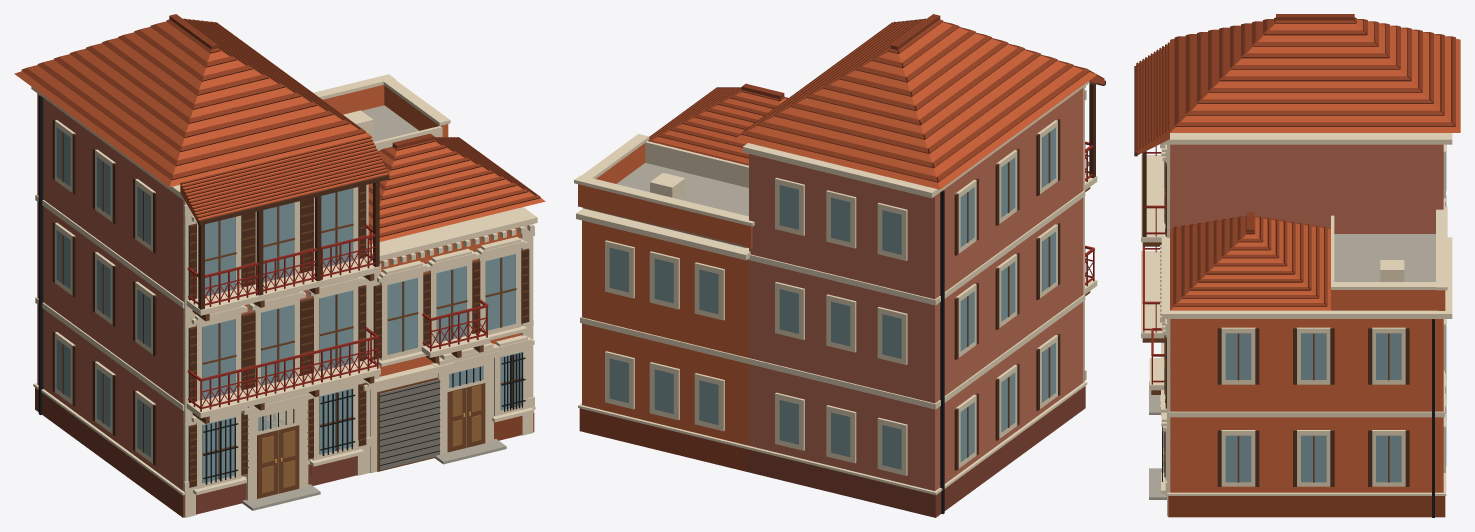
Rendered from casa-balcones-rojos.glb.
3 views of the same model, side by side, from view 1: azimuth 30°, elevation 25°; view 2: azimuth 150°, elevation 25°; view 3: azimuth 270°, elevation 25° (orthographic). The views are drawn at different scales.
Visible parts, largest first — view 1: CasaBR_Crema, CasaBR_Teja, CasaBR_Vidrio, CasaBR_TejaOscura, CasaBR_MuroSalmon, CasaBR_Postigo, CasaBR_Madera, CasaBR_BarandaRoja, CasaBR_Hierro, CasaBR_ZocaloSalmon, CasaBR_PersianaLocal, CasaBR_MuroNaranja (+2 smaller); view 2: CasaBR_MuroSalmon, CasaBR_Crema, CasaBR_MuroNaranja, CasaBR_Teja, CasaBR_TejaOscura, CasaBR_Vidrio, CasaBR_ZocaloSalmon, CasaBR_Postigo, CasaBR_ZocaloNaranja, CasaBR_Piedra, CasaBR_Hierro, CasaBR_Madera; view 3: CasaBR_MuroNaranja, CasaBR_Teja, CasaBR_Crema, CasaBR_TejaOscura, CasaBR_MuroSalmon, CasaBR_Vidrio, CasaBR_ZocaloNaranja, CasaBR_Piedra, CasaBR_Postigo, CasaBR_Madera, CasaBR_BarandaRoja, CasaBR_Hierro.
Boxes of the visible parts, x1,y1,x2,y2 form: CasaBR_Crema: (31, 74, 537, 517); CasaBR_Teja: (14, 22, 545, 244); CasaBR_Vidrio: (56, 127, 523, 482); CasaBR_TejaOscura: (21, 14, 540, 239); CasaBR_MuroSalmon: (37, 93, 311, 490); CasaBR_Postigo: (52, 119, 529, 487); CasaBR_Madera: (62, 132, 528, 498); CasaBR_BarandaRoja: (187, 224, 488, 411); CasaBR_Hierro: (38, 95, 525, 484); CasaBR_ZocaloSalmon: (35, 388, 357, 517); CasaBR_PersianaLocal: (379, 379, 439, 470); CasaBR_MuroNaranja: (323, 85, 520, 376); CasaBR_MuroSalmon: (749, 88, 1083, 490); CasaBR_Crema: (574, 81, 1097, 494); CasaBR_MuroNaranja: (578, 143, 752, 445); CasaBR_Teja: (652, 22, 1104, 189); CasaBR_TejaOscura: (648, 14, 1104, 182); CasaBR_Vidrio: (609, 127, 1055, 469); CasaBR_ZocaloSalmon: (746, 386, 1085, 517); CasaBR_Postigo: (954, 80, 1105, 470); CasaBR_ZocaloNaranja: (579, 408, 749, 471); CasaBR_Piedra: (583, 163, 748, 248); CasaBR_Hierro: (940, 190, 944, 513); CasaBR_Madera: (967, 132, 1090, 457); CasaBR_MuroNaranja: (1170, 290, 1445, 492); CasaBR_Teja: (1136, 19, 1460, 310); CasaBR_Crema: (1141, 133, 1452, 516); CasaBR_TejaOscura: (1136, 14, 1455, 306); CasaBR_MuroSalmon: (1170, 144, 1443, 233); CasaBR_Vidrio: (1165, 145, 1446, 482); CasaBR_ZocaloNaranja: (1168, 496, 1445, 517); CasaBR_Piedra: (1149, 234, 1435, 499); CasaBR_Postigo: (1134, 66, 1409, 486); CasaBR_Madera: (1142, 161, 1389, 482); CasaBR_BarandaRoja: (1142, 146, 1166, 384); CasaBR_Hierro: (1162, 319, 1434, 517).
Size of the model in its own units: 11.9 by 12.33 by 9.55.
